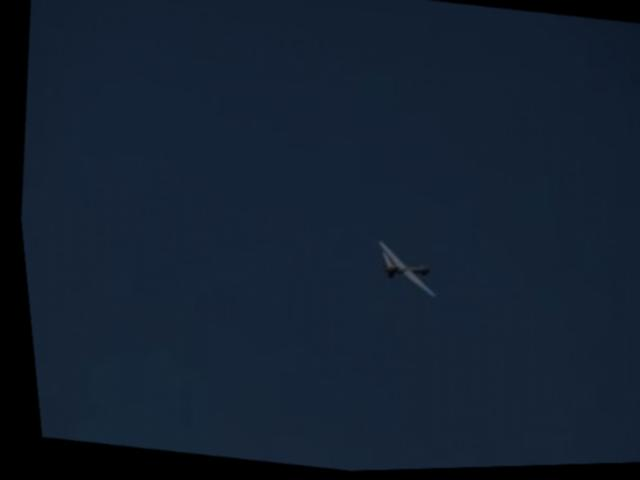uav: (353, 228, 450, 309)
